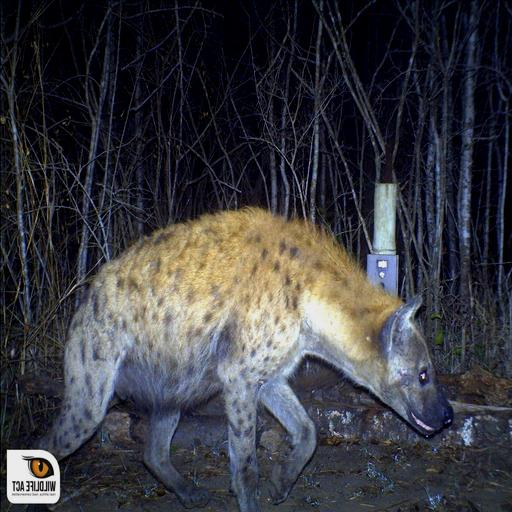hyenas: (0, 192, 471, 495)
